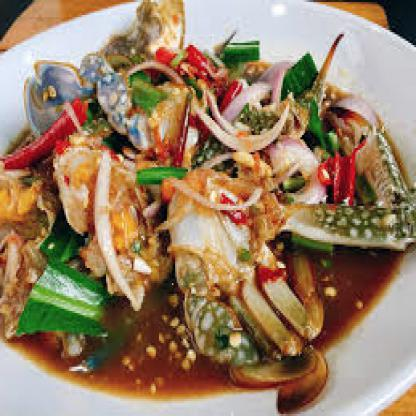Yum: (2, 43, 398, 414)
